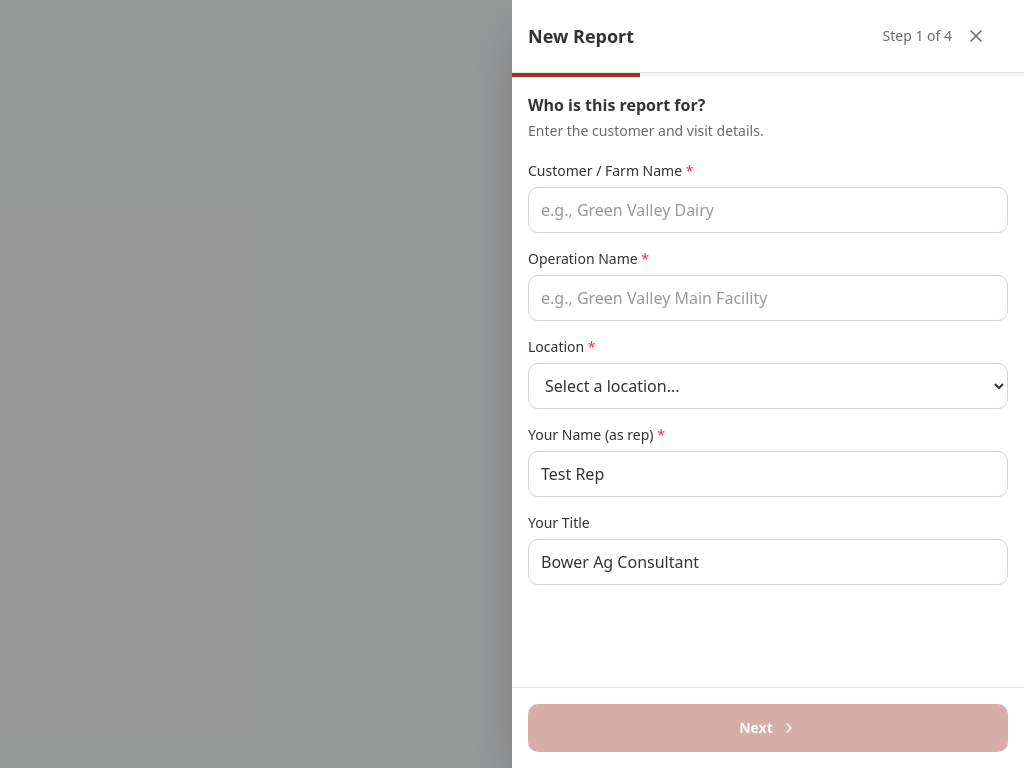
NewReportForm › step 1 validates required fields before enabling Next
The width and height of the screenshot is (1024, 768).
Expected: the button "Next" is disabled, [528,704,1008,752]
# Customer name is the first text input
Type "Green Valley Dairy" into the field with placeholder "e.g., Green Valley Dairy" at (768, 210), box [528,187,1008,233]
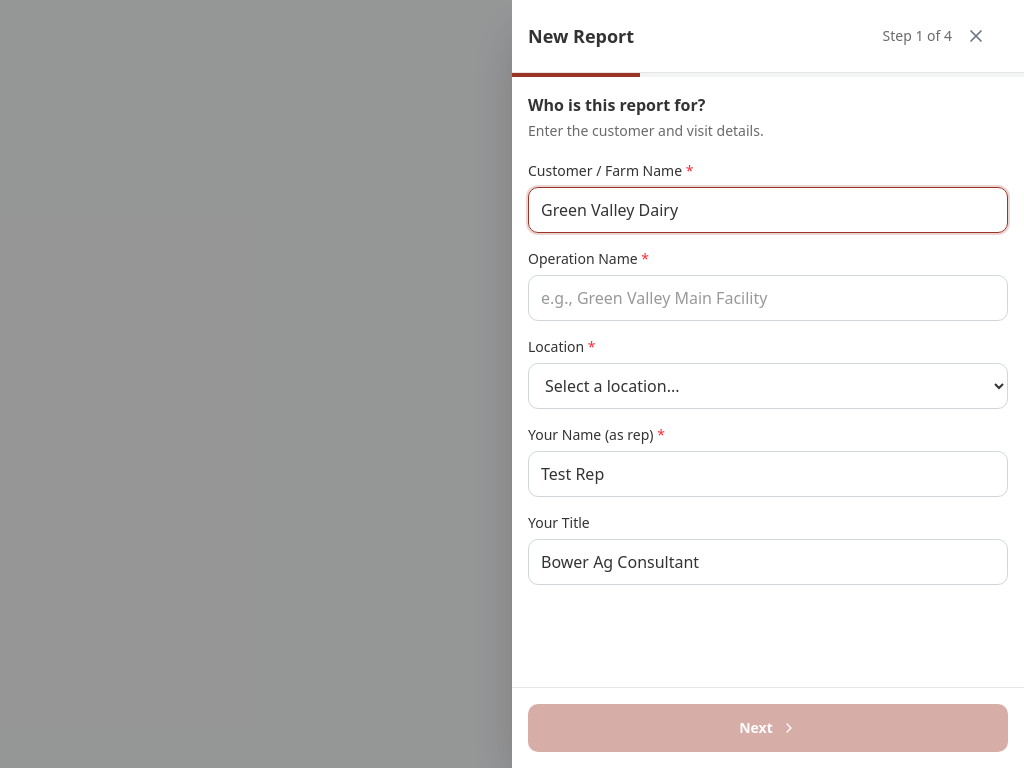
# Operation name
Type "Fresno CA" into the field with placeholder "e.g., Green Valley Main Facility" at (768, 298), box [528,275,1008,321]
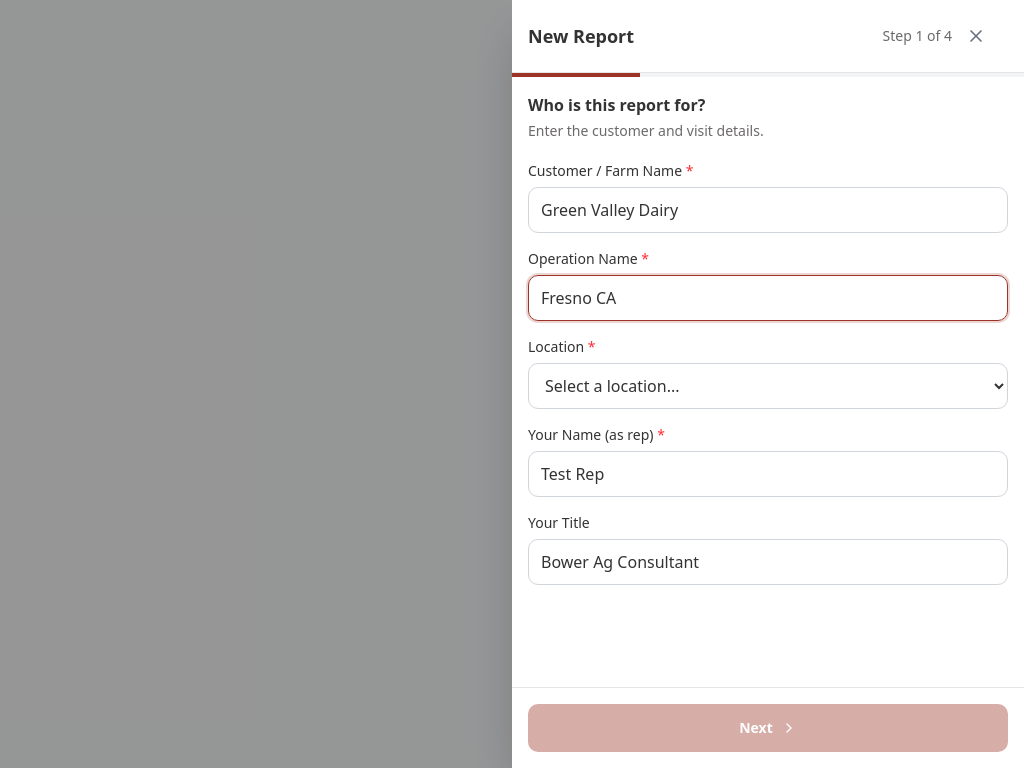
# Select location
Select "Evans CO (EVANS)" in the dropdown with test id "location-select" at (768, 386), box [528,363,1008,409]
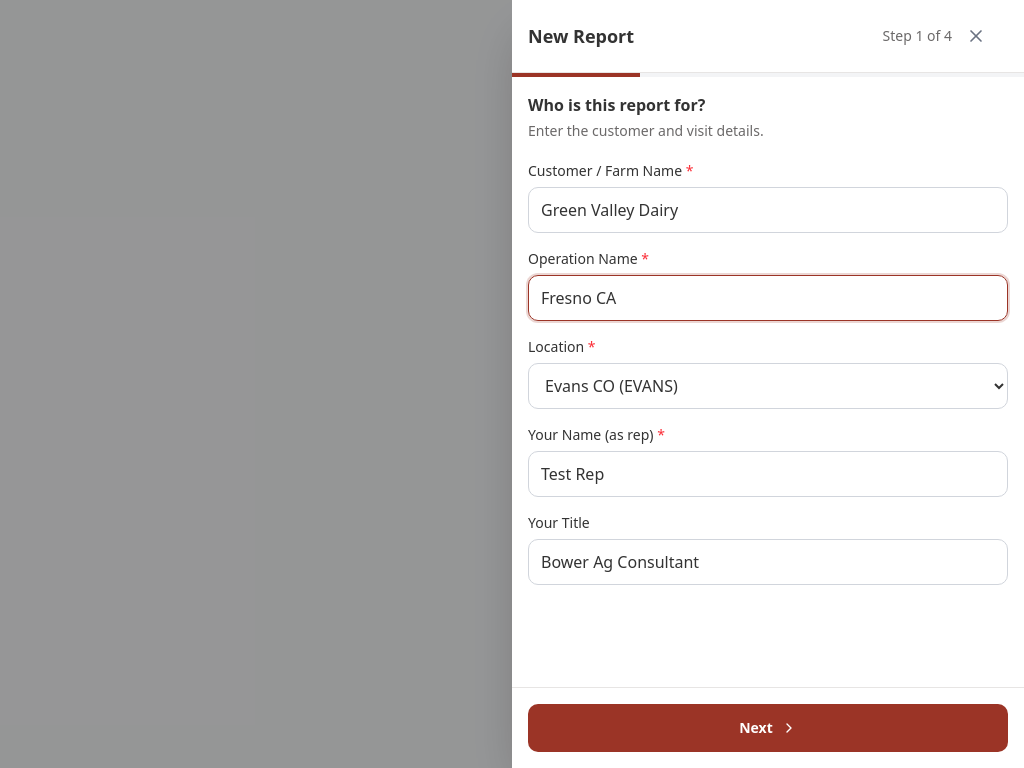
Expected: the button "Next" is enabled, [528,704,1008,752]
